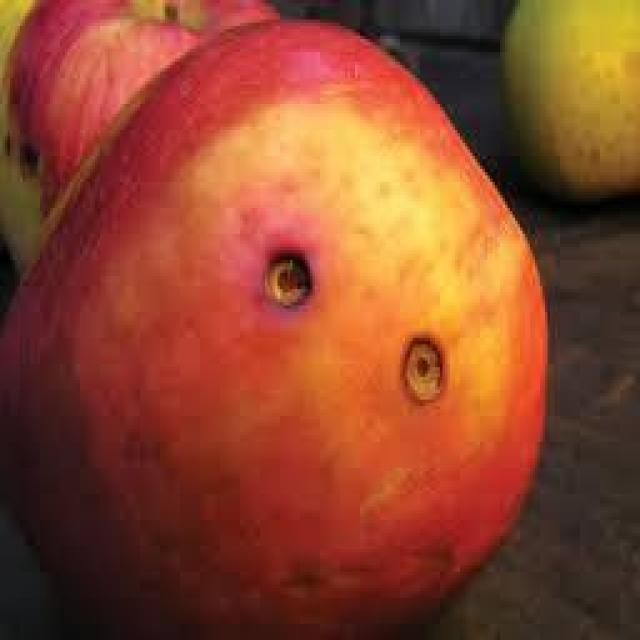maca: (0, 0, 550, 637)
